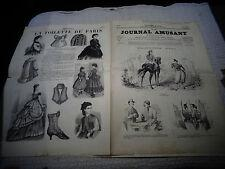paper: (2, 5, 225, 156)
